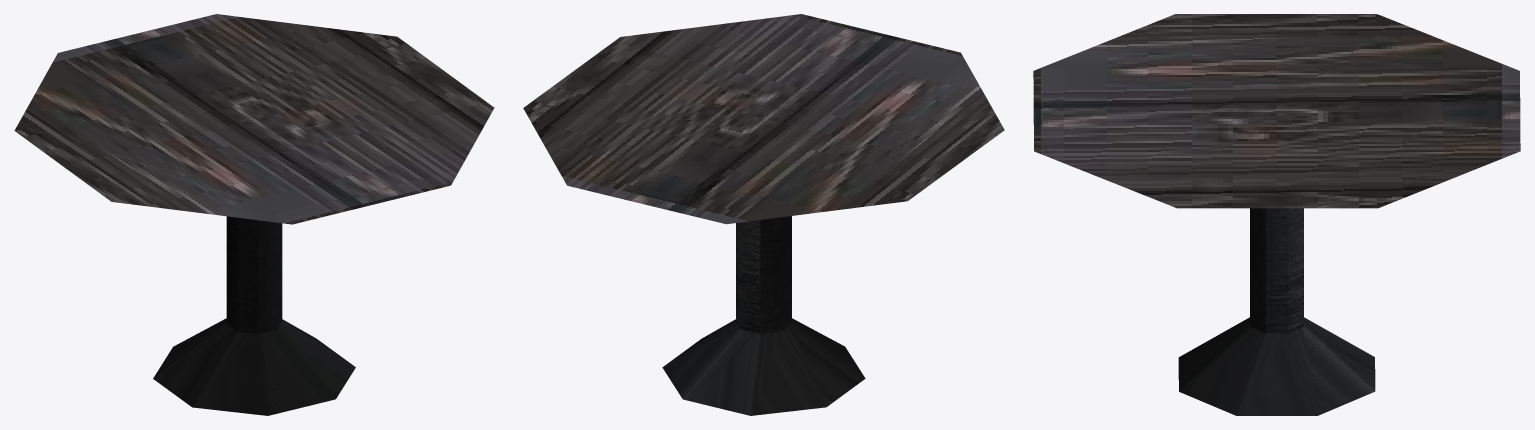
The model's file is clubtable.glb.
3 views of the same model, side by side, from view 1: azimuth 30°, elevation 25°; view 2: azimuth 150°, elevation 25°; view 3: azimuth 270°, elevation 25° (orthographic). The views are drawn at different scales.
Parts seen in each view (by area): view 1: TABLE; view 2: TABLE; view 3: TABLE.
Part boxes in pixels (x1,y1,x2,y2): TABLE: (14,14,494,415); TABLE: (523,14,1004,415); TABLE: (1033,14,1520,415).
Bounding box in the file's own units: 5.7 × 3.6 × 6.04.
Materials: 2 (2 with a texture image).
